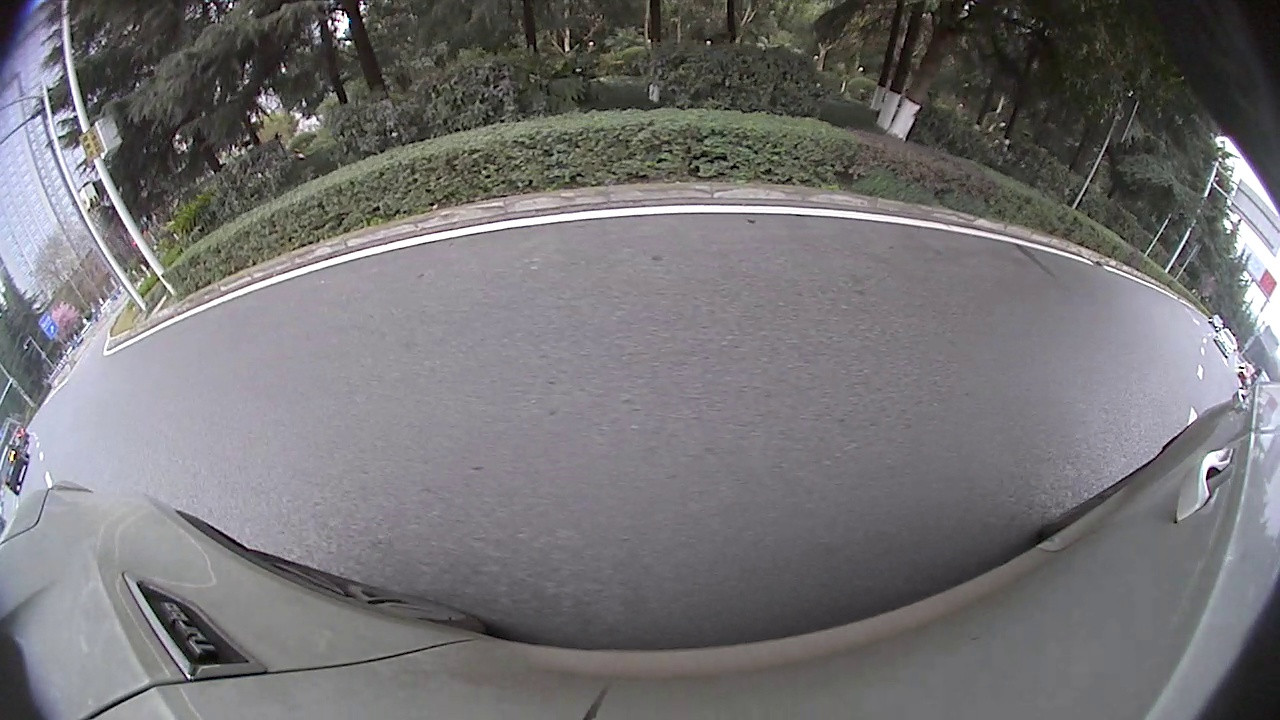car: (1, 443, 31, 495), (1212, 326, 1239, 359)
